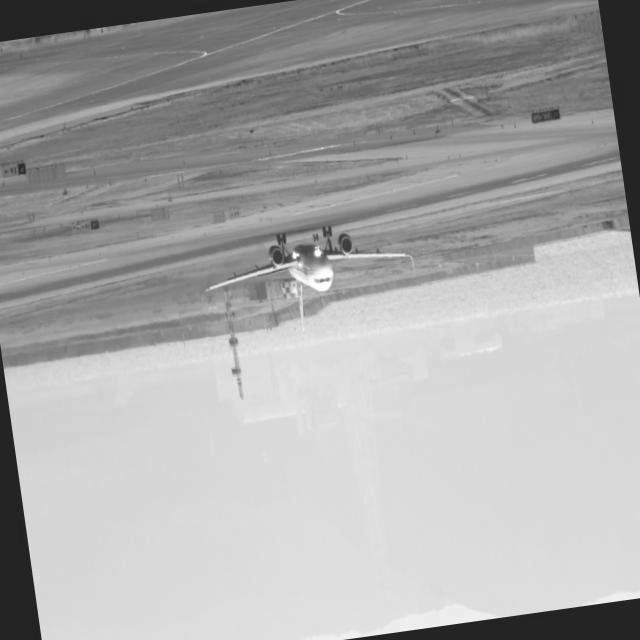aeroplane: (193, 215, 424, 347)
